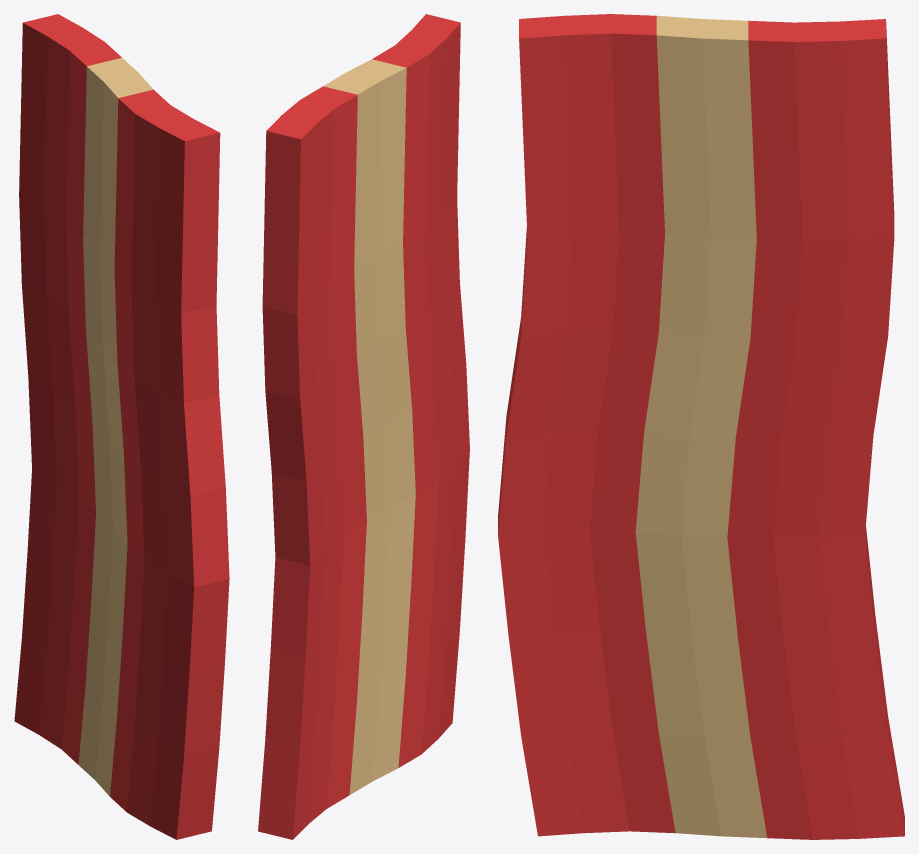
File: bacon.fbx
The picture shows the model from 3 angles, left to right: view 1: azimuth 30°, elevation 25°; view 2: azimuth 150°, elevation 25°; view 3: azimuth 270°, elevation 25°; orthographic projection. The views are drawn at different scales.
Parts seen in each view (by area): view 1: Cube; view 2: Cube; view 3: Cube.
Boxes of the visible parts, x1,y1,x2,y2 form: Cube: (14,14,229,839); Cube: (258,14,469,839); Cube: (498,14,904,839).
Bounding box in the file's own units: 6.82 × 90.26 × 41.72.
2 materials, 2 textured.
